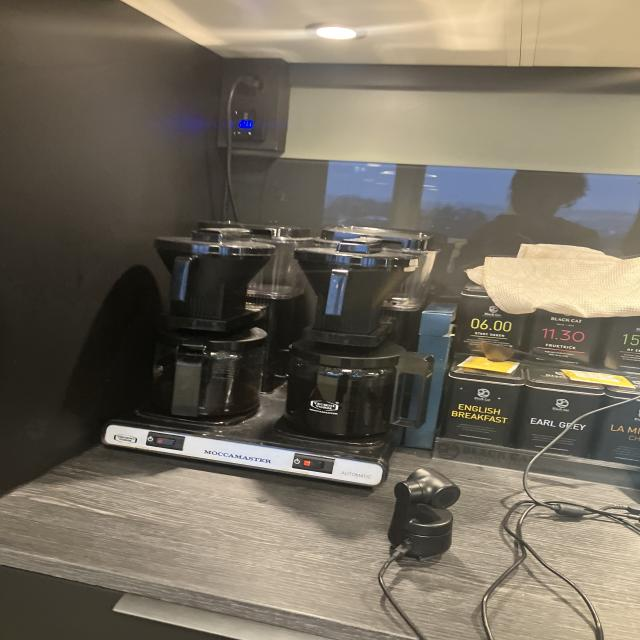coffee: (272, 344, 414, 439), (141, 329, 273, 422)
